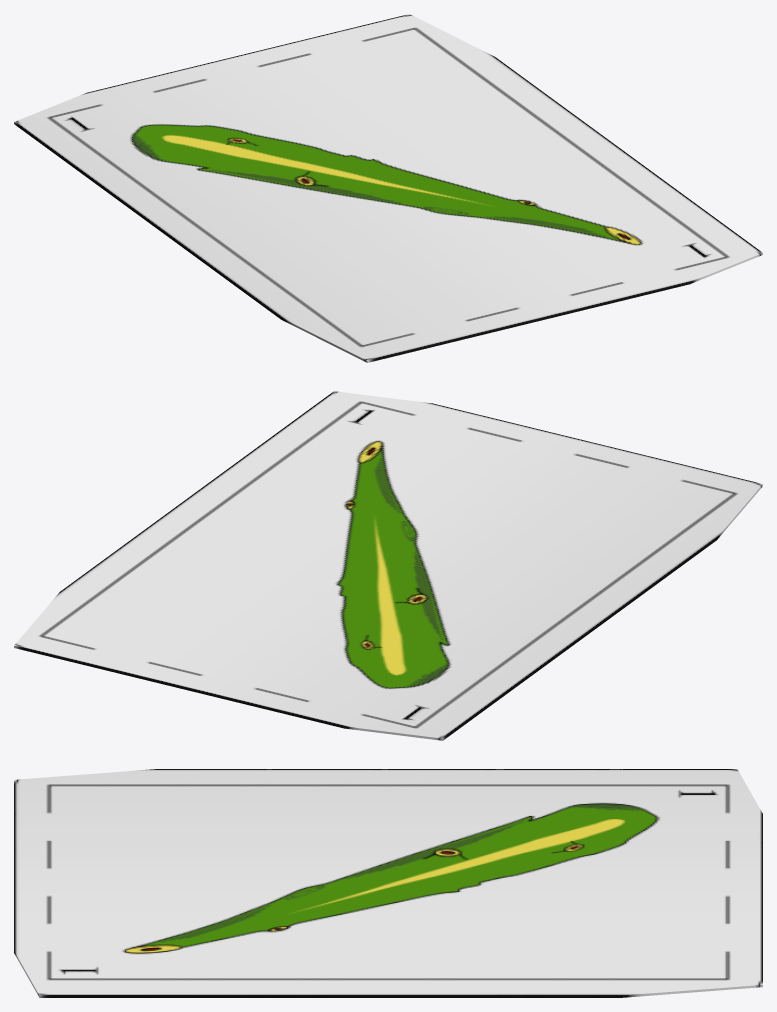
The model's file is Carta_Espanola_As_Bastos.glb.
The picture shows the model from 3 angles, top to bottom: view 1: azimuth 30°, elevation 25°; view 2: azimuth 150°, elevation 25°; view 3: azimuth 270°, elevation 25°; orthographic projection. The views are drawn at different scales.
Parts seen in each view (by area): view 1: Carta_Espanola_As_Bastos; view 2: Carta_Espanola_As_Bastos; view 3: Carta_Espanola_As_Bastos.
Boxes of the visible parts, left/top/right/bottom form: Carta_Espanola_As_Bastos: left=14, top=14, right=762, bottom=362; Carta_Espanola_As_Bastos: left=14, top=391, right=762, bottom=740; Carta_Espanola_As_Bastos: left=14, top=769, right=762, bottom=997.
Size of the model in its own units: 0.063 by 0.0003 by 0.088.
Materials: 1 (1 with a texture image).
